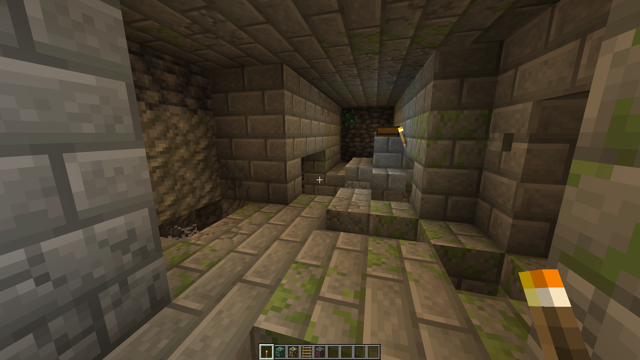emerald: (340, 105, 360, 127)
